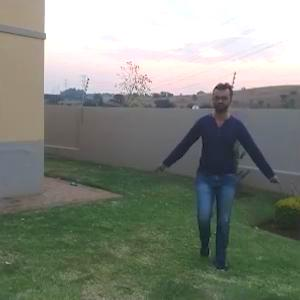land: (164, 82, 287, 273)
